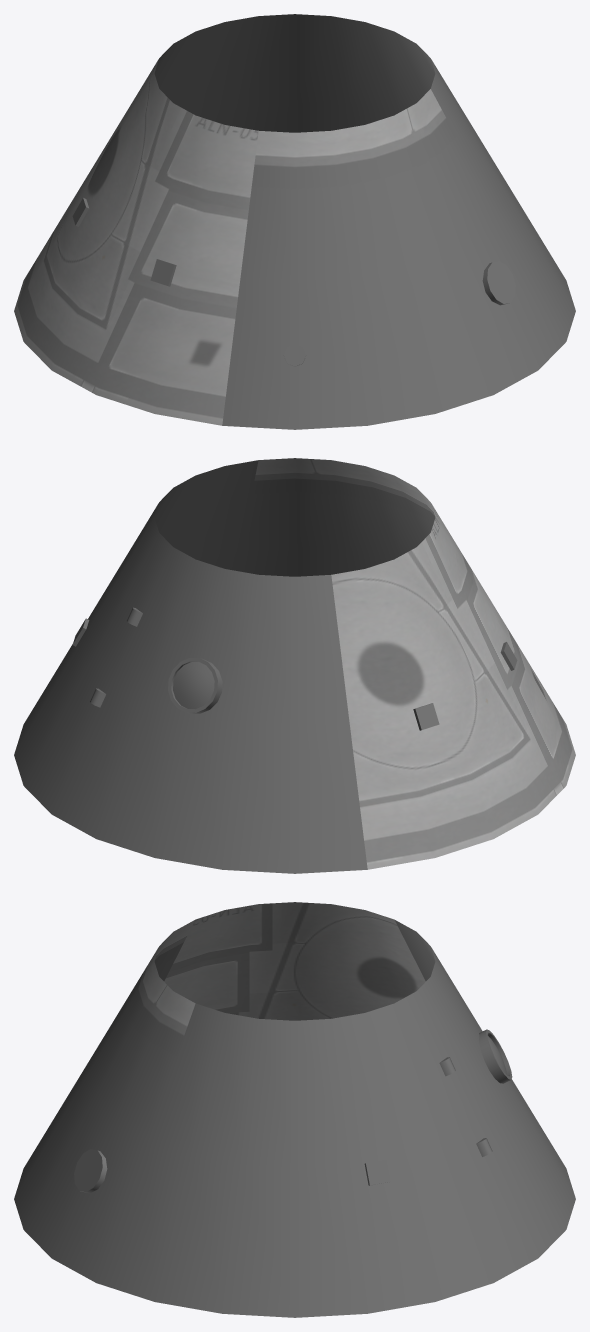
The model's file is alnair_crew_s1p5_1.obj.
3 views of the same model, one above another, from view 1: azimuth 30°, elevation 25°; view 2: azimuth 150°, elevation 25°; view 3: azimuth 270°, elevation 25° (orthographic).
Visible parts, largest first — view 1: mesh1; view 2: mesh1, windows1; view 3: mesh1.
Boxes of the visible parts, bbox=[...] form: mesh1: bbox=[14, 14, 575, 429]; mesh1: bbox=[14, 458, 575, 873]; windows1: bbox=[173, 662, 214, 709]; mesh1: bbox=[14, 902, 575, 1317].
Bounding box in the file's own units: 1.88 × 0.875 × 1.88.
Materials: 2 (2 with a texture image).
